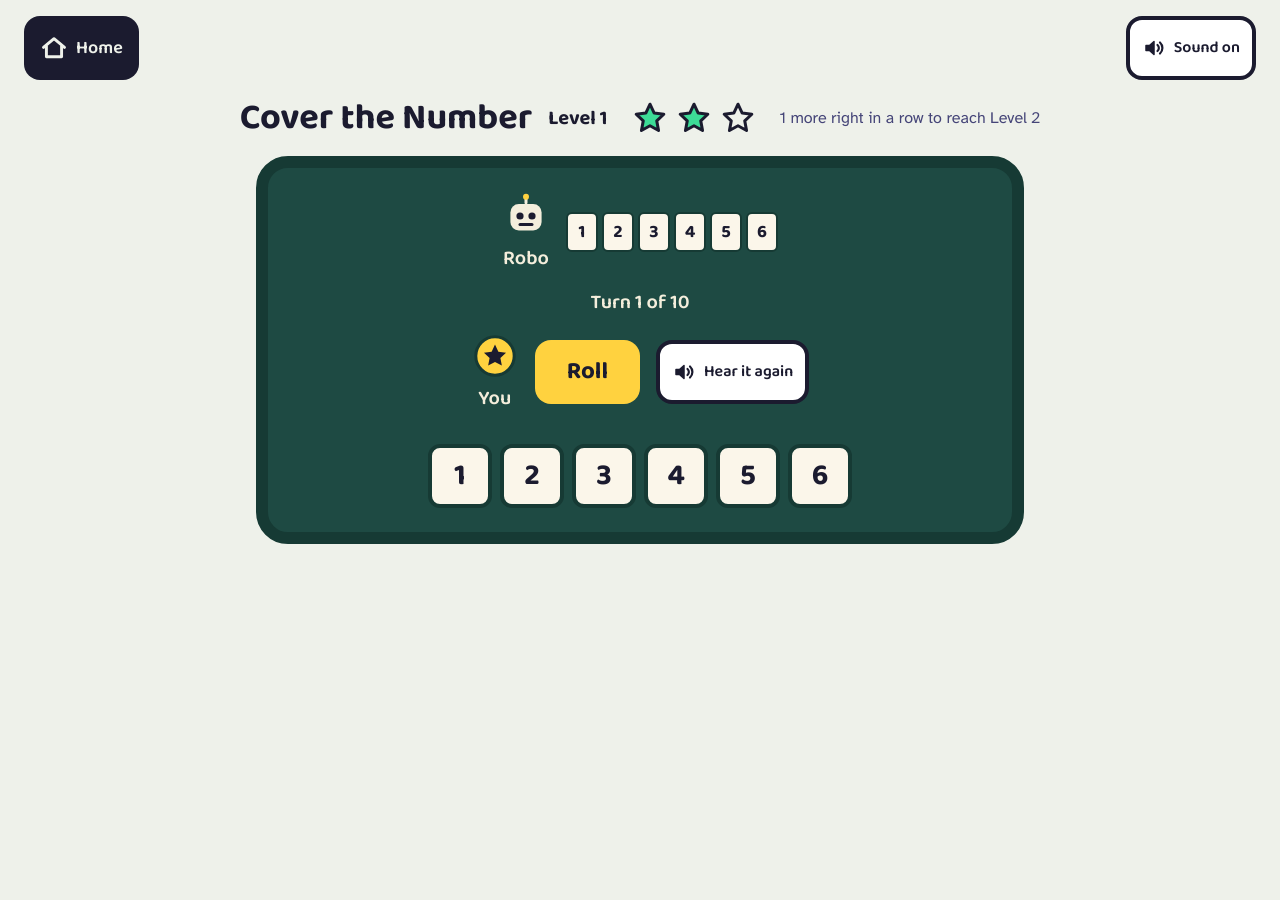
Test case: a right tap on a covered number offers Roll again
Click the button "Roll". click: (587, 372)
box: [535,340,640,404]
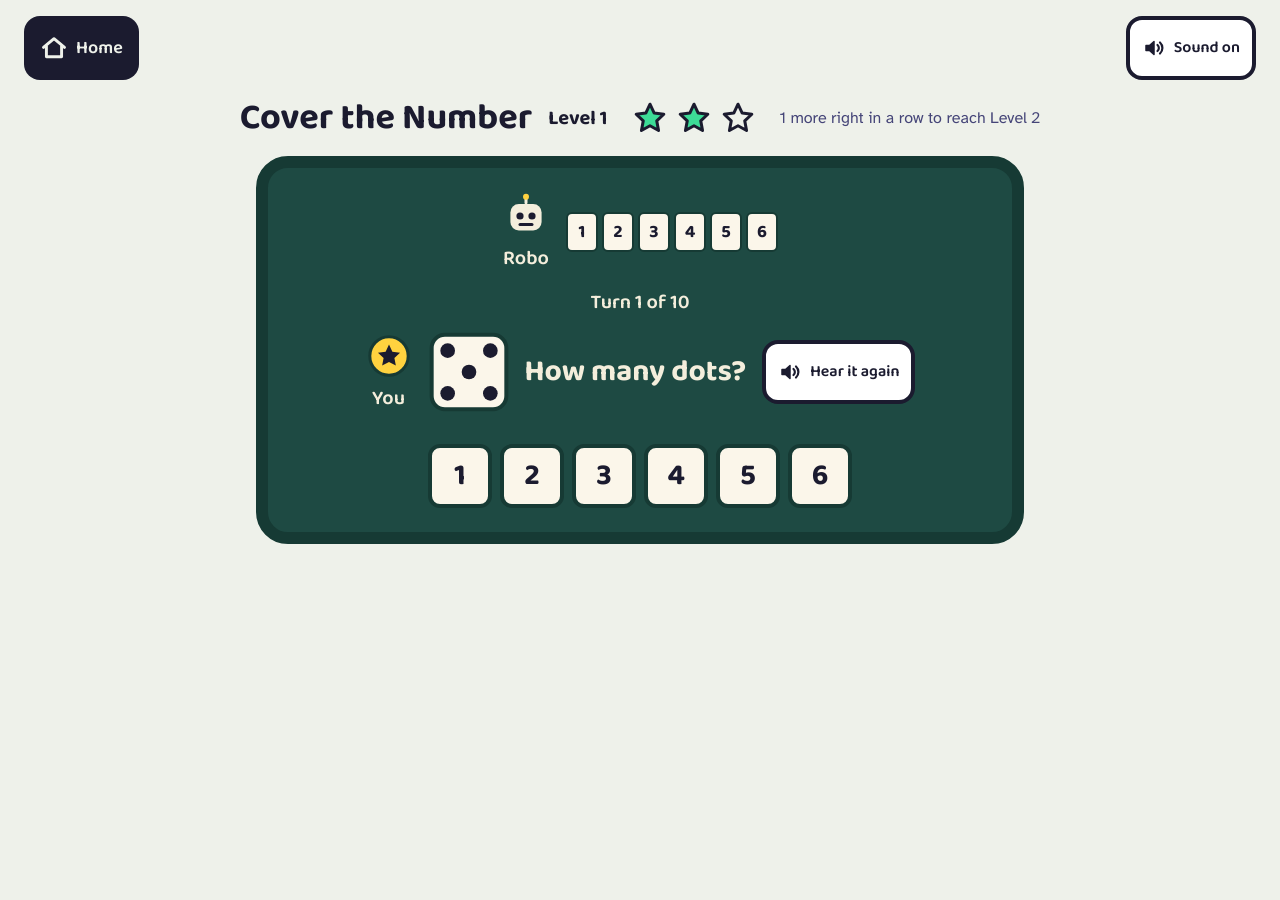
Click the button named "Number 5". click: (748, 476)
box: [716,444,780,508]
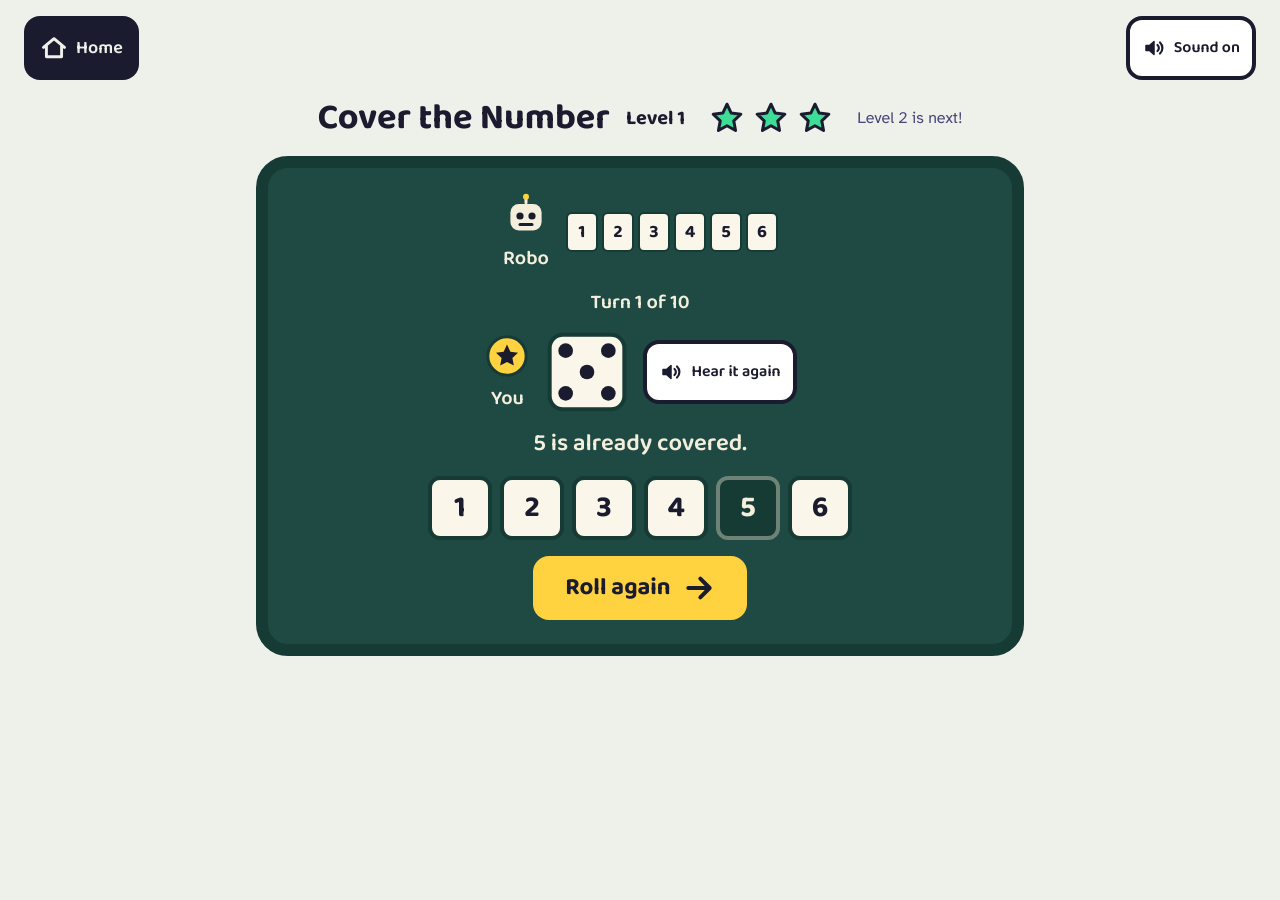
Now the text "5 is already covered." is shown, box [533,428,747,460]
Click the button "Roll again". click: (640, 588)
box: [533,556,747,620]
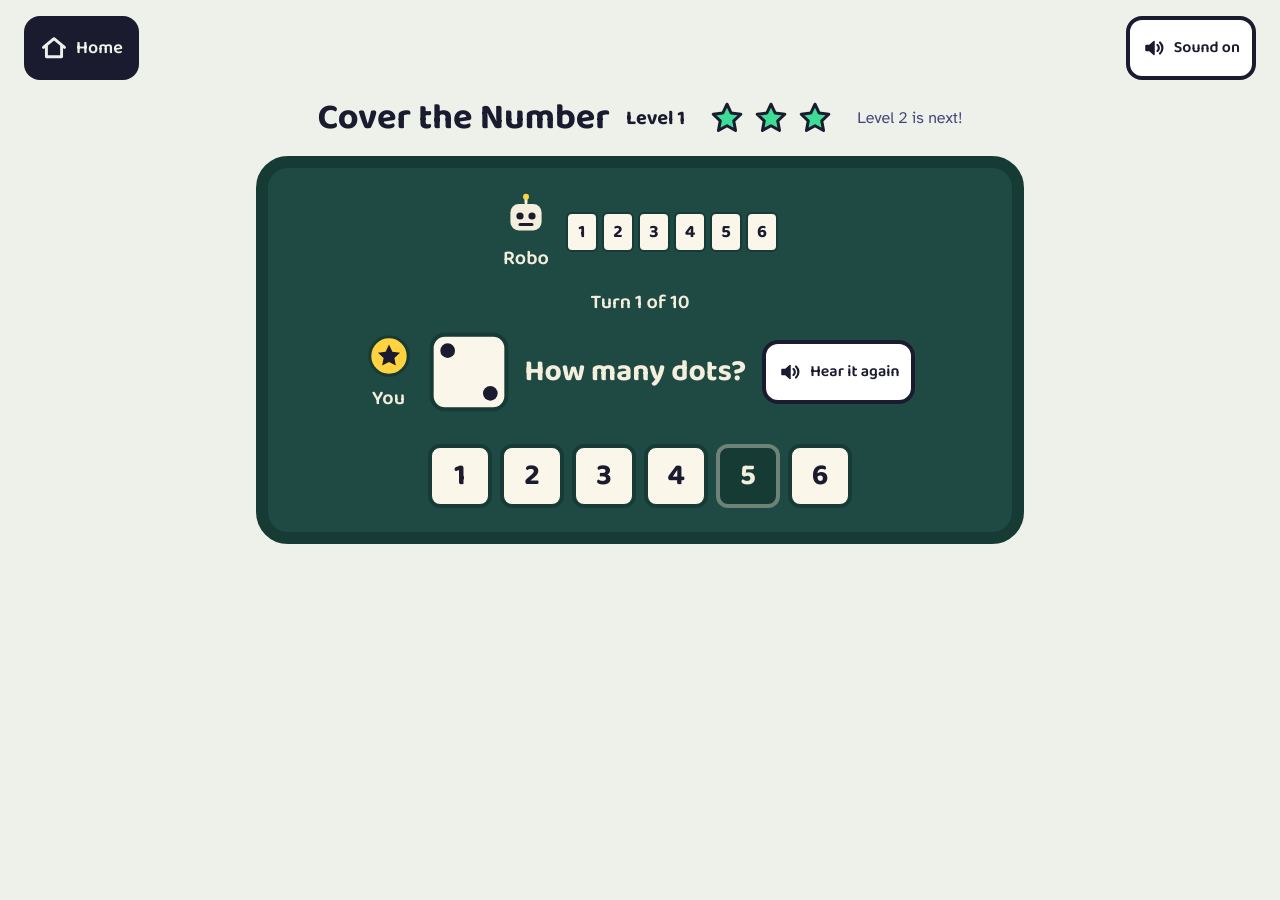
Now the picture named "2 dots" is shown, box [428,332,508,412]
